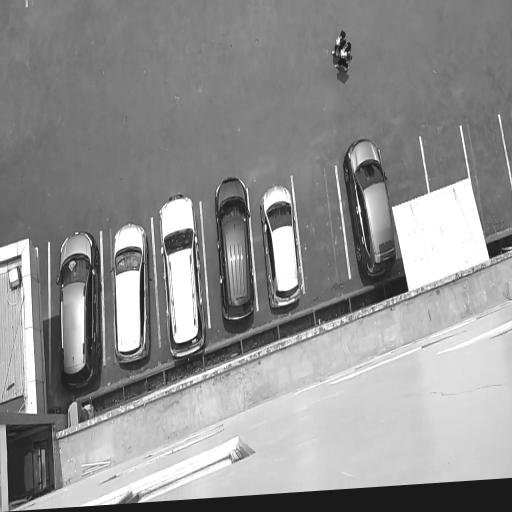Car: (340, 129, 400, 294), (154, 186, 208, 366), (57, 227, 102, 395), (213, 174, 259, 331), (111, 212, 155, 375), (258, 178, 303, 316)
Space Available: (294, 166, 349, 288), (462, 116, 512, 237), (380, 138, 429, 208), (422, 126, 469, 192), (501, 111, 512, 184)
